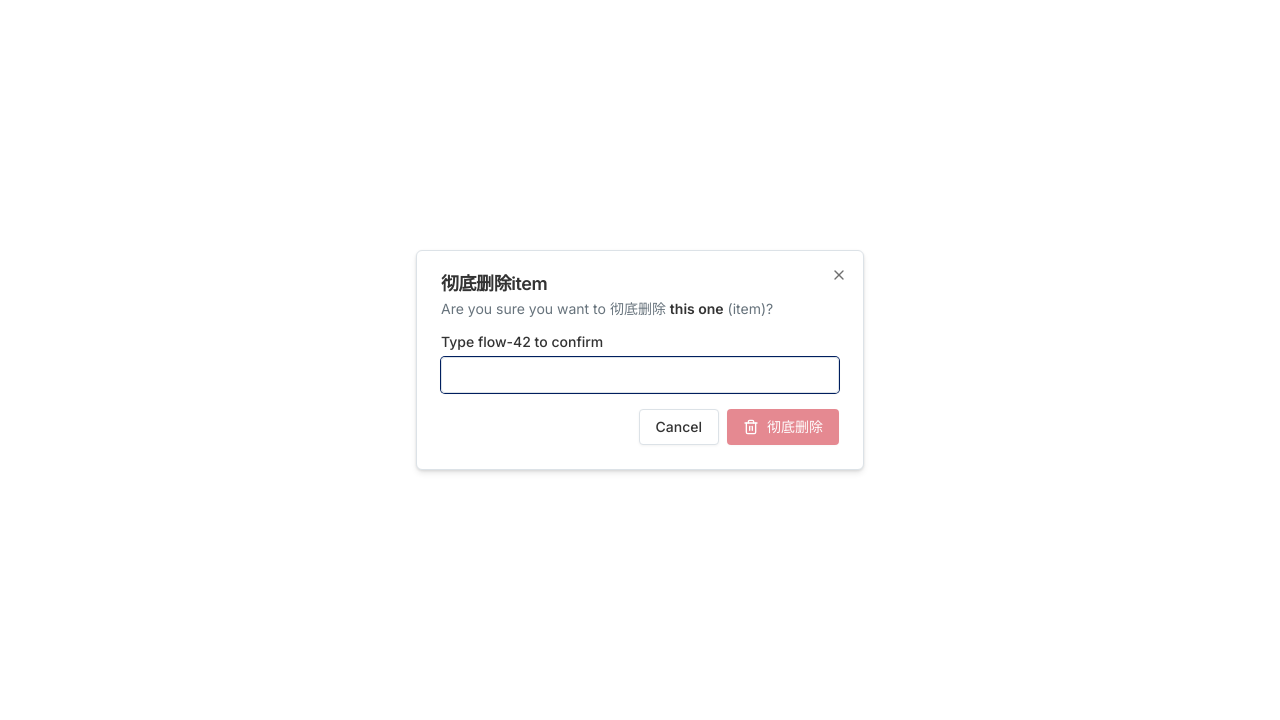
ConfirmationDialog confirmPhrase › ignores surrounding whitespace but not a different phrase
Type "  flow-42  " into the field at coordinates (640, 375), box [441,357,839,393]
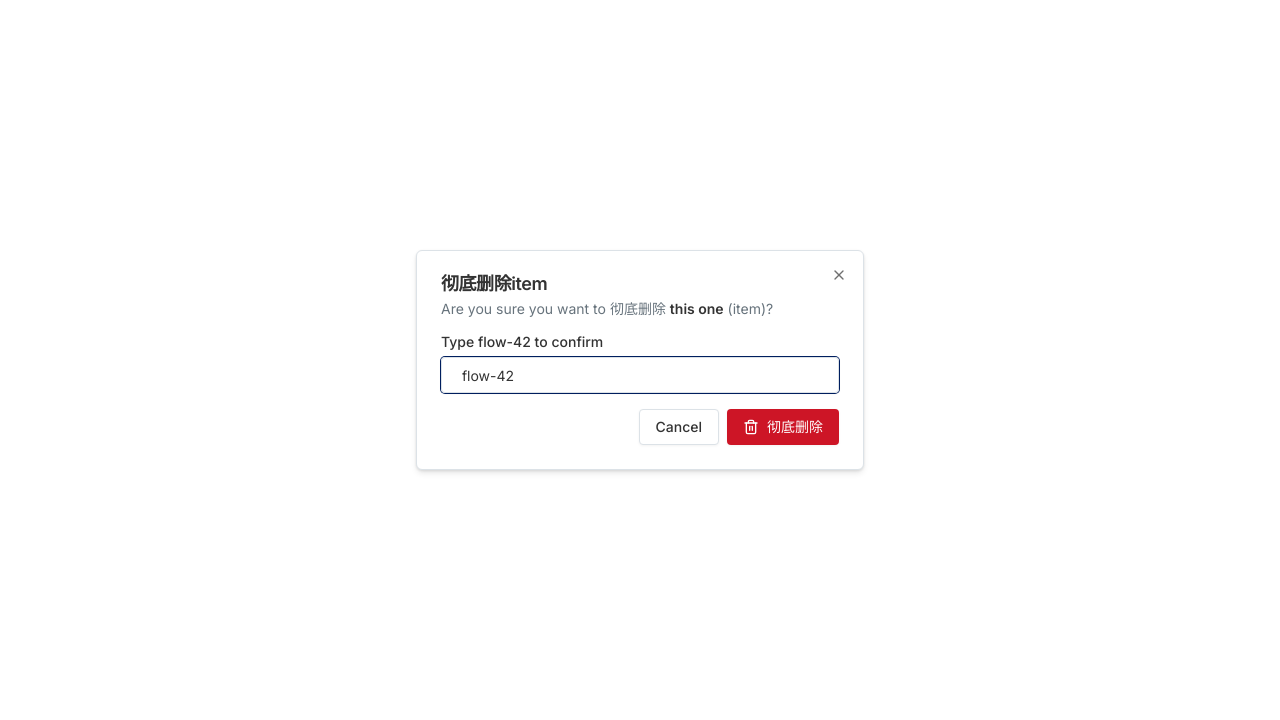
Expected: the button "彻底删除" is enabled, [727,409,839,445]
